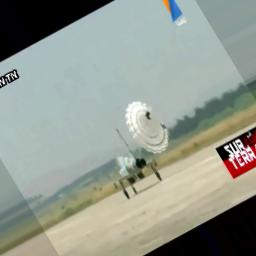Airplane: (108, 150, 164, 199)
